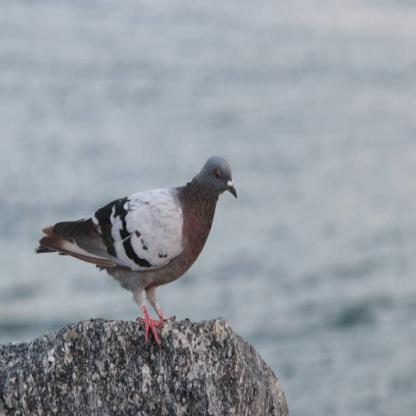Rock Pigeon: (37, 154, 241, 301)
